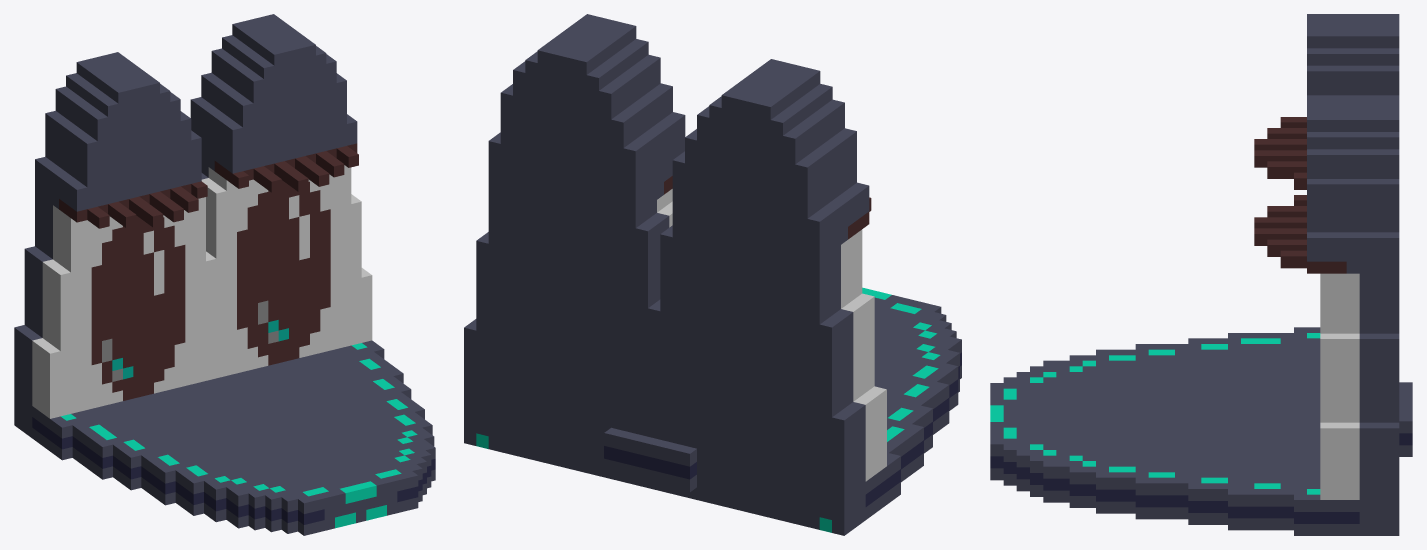
The picture shows the model from 3 angles, left to right: view 1: azimuth 30°, elevation 25°; view 2: azimuth 150°, elevation 25°; view 3: azimuth 270°, elevation 25°; orthographic projection. The views are drawn at different scales.
Size of the model in its own units: 1.55 by 1.6 by 1.6.
